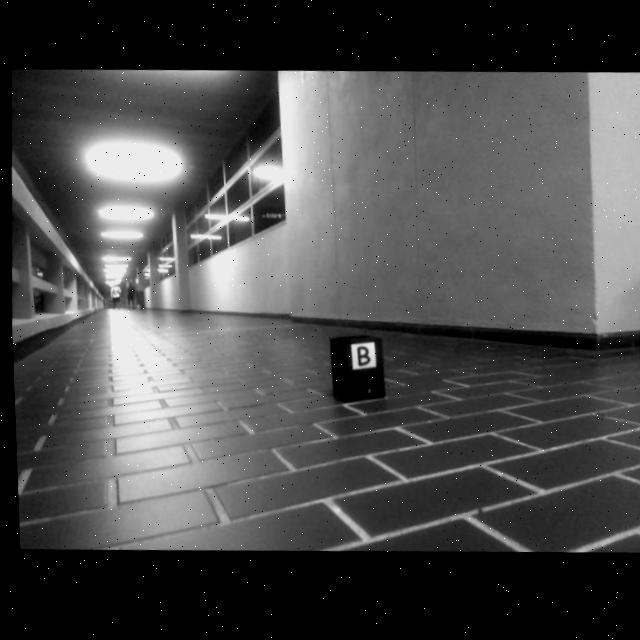B: (353, 348, 367, 369)
